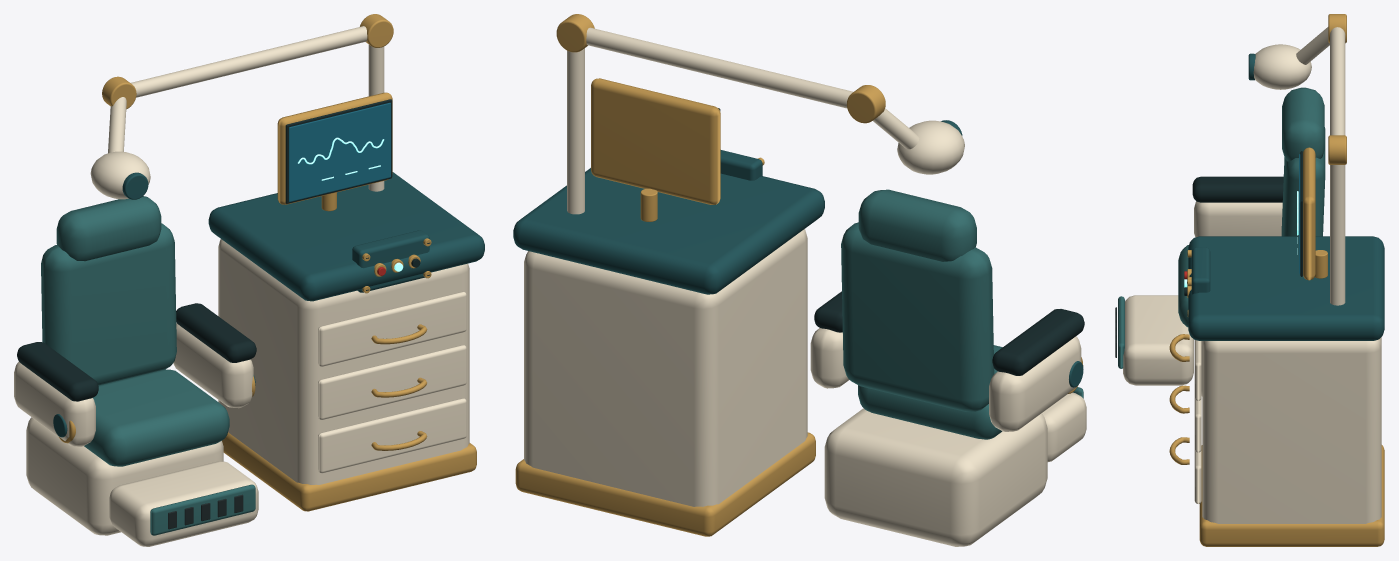
Rendered from diagnosis.glb.
3 views of the same model, side by side, from view 1: azimuth 30°, elevation 25°; view 2: azimuth 150°, elevation 25°; view 3: azimuth 270°, elevation 25° (orthographic). The views are drawn at different scales.
Parts seen in each view (by area): view 1: ivory.001, cushion.001, teal.001, brass.001, display.001, dark.001, rubber.001; view 2: ivory.001, cushion.001, teal.001, brass.001, dark.001; view 3: ivory.001, teal.001, brass.001, cushion.001, dark.001.
Part boxes in pixels (x1=…): ivory.001: x1=14, y1=26, x2=469, y2=546; cushion.001: x1=41, y1=196, x2=255, y2=535; teal.001: x1=53, y1=172, x2=484, y2=437; brass.001: x1=59, y1=14, x2=476, y2=511; display.001: x1=289, y1=102, x2=390, y2=201; dark.001: x1=17, y1=99, x2=430, y2=401; rubber.001: x1=168, y1=494, x2=243, y2=529; ivory.001: x1=524, y1=27, x2=1086, y2=546; cushion.001: x1=841, y1=189, x2=1083, y2=439; teal.001: x1=513, y1=120, x2=1083, y2=387; brass.001: x1=515, y1=14, x2=1083, y2=536; dark.001: x1=718, y1=108, x2=1084, y2=375; ivory.001: x1=1123, y1=27, x2=1381, y2=523; teal.001: x1=1188, y1=53, x2=1384, y2=340; brass.001: x1=1169, y1=14, x2=1384, y2=546; cushion.001: x1=1118, y1=87, x2=1325, y2=368; dark.001: x1=1184, y1=151, x2=1302, y2=314.
Bounding box in the file's own units: 1.64 × 1.54 × 0.946.
